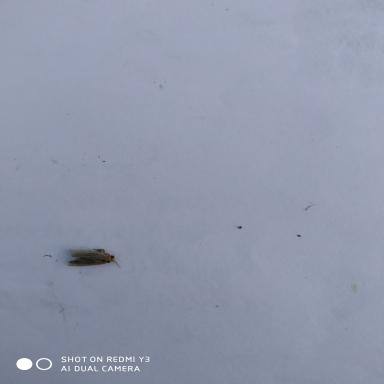pbw: (60, 243, 122, 270)
